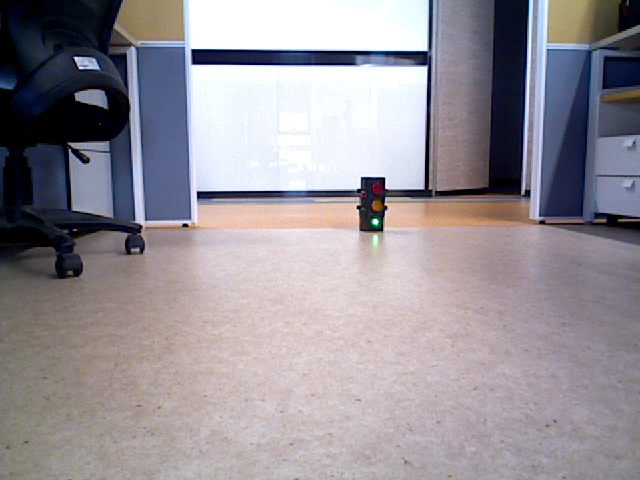green: (361, 177, 383, 225)
